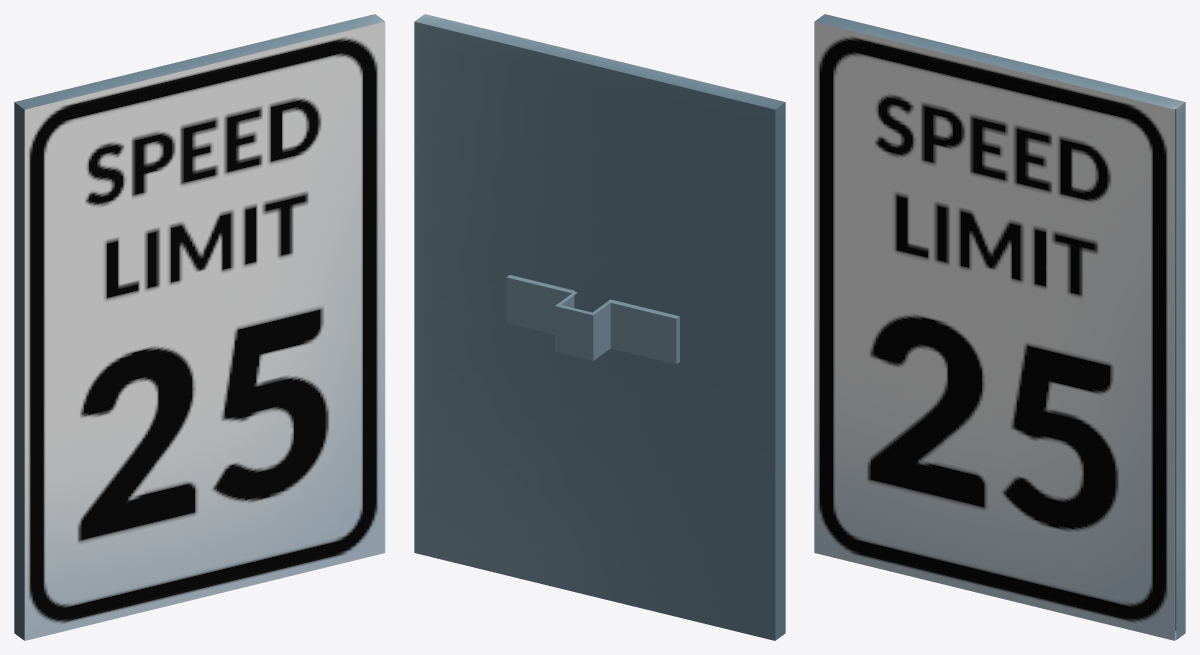
File: Sign51.fbx
3 renders of one model, left to right at view 1: azimuth 30°, elevation 25°; view 2: azimuth 150°, elevation 25°; view 3: azimuth 330°, elevation 25°, orthographic.
Parts seen in each view (by area): view 1: Sign51; view 2: Sign51; view 3: Sign51.
Boxes of the visible parts, x1,y1,x2,y2 form: Sign51: (14, 14, 385, 640); Sign51: (414, 14, 785, 640); Sign51: (814, 14, 1185, 640).
Size of the model in its own units: 1 by 0.1489 by 1.41.
